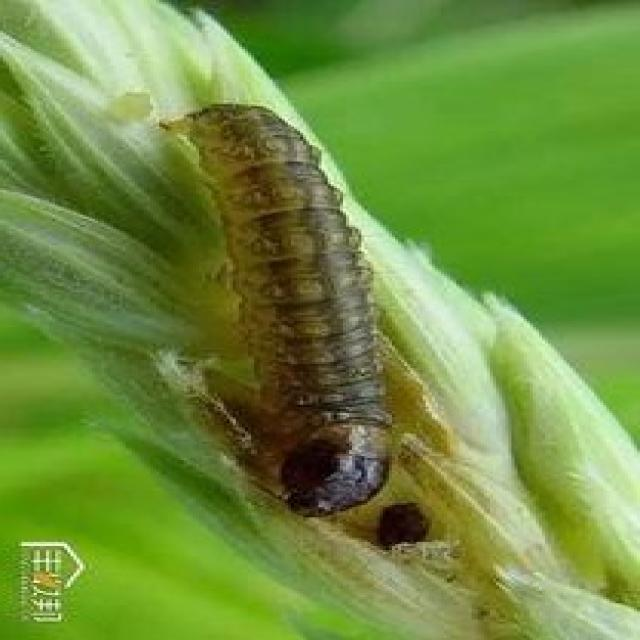peach borer: (185, 92, 399, 523)
